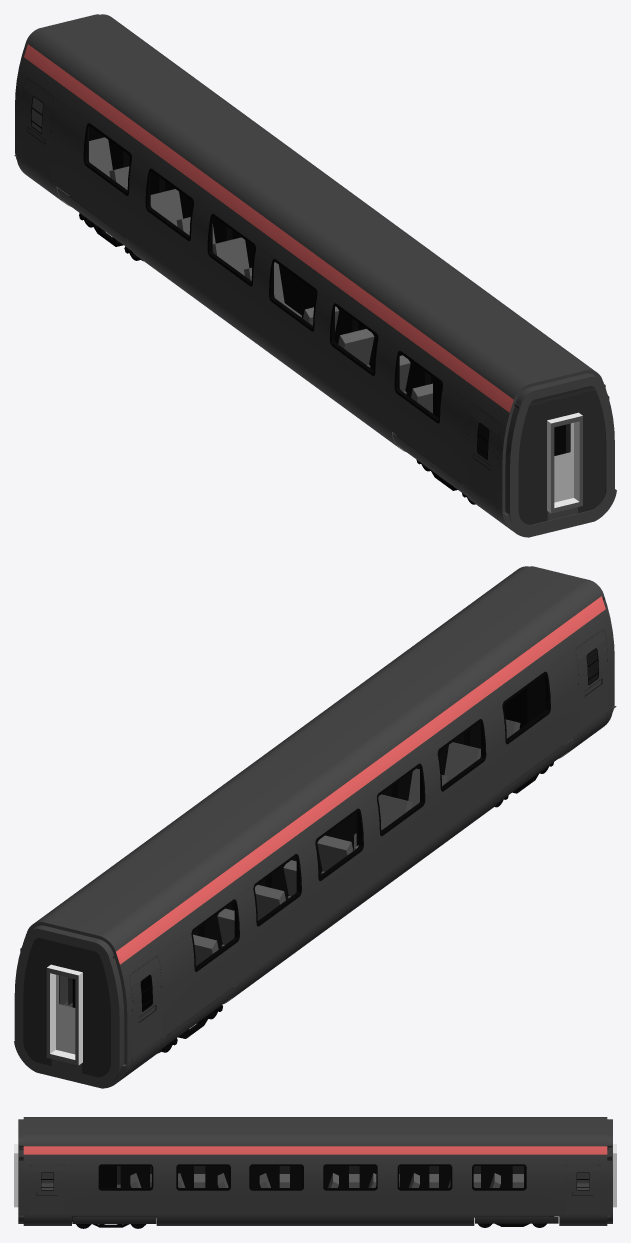
Rendered from hs_coach-car.glb.
The picture shows the model from 3 angles, top to bottom: view 1: azimuth 30°, elevation 25°; view 2: azimuth 150°, elevation 25°; view 3: azimuth 270°, elevation 25°; orthographic projection. The views are drawn at different scales.
Visible parts, largest first — view 1: instance_147, Box (×4), group_0, mesh_10_instance_1, mesh_10_instance_0, Box_59, Box_57, Box_67, Box_49, mesh_14_instance_0, mesh_14_instance_5, mesh_14_instance_1 (+1 smaller); view 2: instance_147, Box (×5), group_0, mesh_10_instance_1, mesh_10_instance_0, Box_5, Box_71, Box_60, Box_63, mesh_14_instance_0, mesh_14_instance_1, mesh_14_instance_2 (+3 smaller); view 3: instance_147, mesh_10_instance_2, mesh_10_instance_3, Box_59, Box, mesh_1_instance_0, mesh_1_instance_1, Box_74, group_0 (×2), Box_62, Box_44, Box_52 (+14 smaller).
Part boxes in pixels (x1,y1,x2,y2): instance_147: [14, 14, 616, 537]; Box (×4): [518, 389, 609, 524]; group_0: [547, 412, 582, 513]; mesh_10_instance_1: [22, 78, 53, 189]; mesh_10_instance_0: [468, 404, 499, 516]; Box_59: [279, 265, 315, 318]; Box_57: [212, 237, 249, 275]; Box_67: [338, 329, 374, 365]; Box_49: [150, 189, 182, 226]; mesh_14_instance_0: [83, 123, 131, 195]; mesh_14_instance_5: [394, 351, 442, 423]; mesh_14_instance_1: [145, 168, 193, 241]; instance_147: [14, 566, 616, 1088]; Box (×5): [20, 933, 110, 1077]; group_0: [46, 964, 82, 1065]; mesh_10_instance_1: [130, 956, 161, 1067]; mesh_10_instance_0: [576, 630, 607, 741]; Box_5: [504, 674, 545, 729]; Box_71: [444, 742, 480, 782]; Box_60: [317, 835, 353, 871]; Box_63: [378, 794, 412, 830]; mesh_14_instance_0: [191, 899, 239, 971]; mesh_14_instance_1: [253, 854, 301, 926]; mesh_14_instance_2: [315, 808, 363, 881]; instance_147: [18, 1117, 612, 1225]; mesh_10_instance_2: [565, 1164, 600, 1220]; mesh_10_instance_3: [30, 1164, 64, 1220]; Box_59: [290, 1166, 348, 1187]; Box: [117, 1166, 523, 1184]; mesh_1_instance_0: [72, 1217, 156, 1223]; mesh_1_instance_1: [475, 1217, 558, 1223]; Box_74: [120, 1166, 150, 1187]; group_0 (×2): [14, 1144, 616, 1207]; Box_62: [251, 1166, 279, 1187]; Box_44: [481, 1166, 510, 1187]; Box_52: [400, 1166, 429, 1187].
Bounding box in the file's own units: 3.5 × 4.71 × 27.38.
